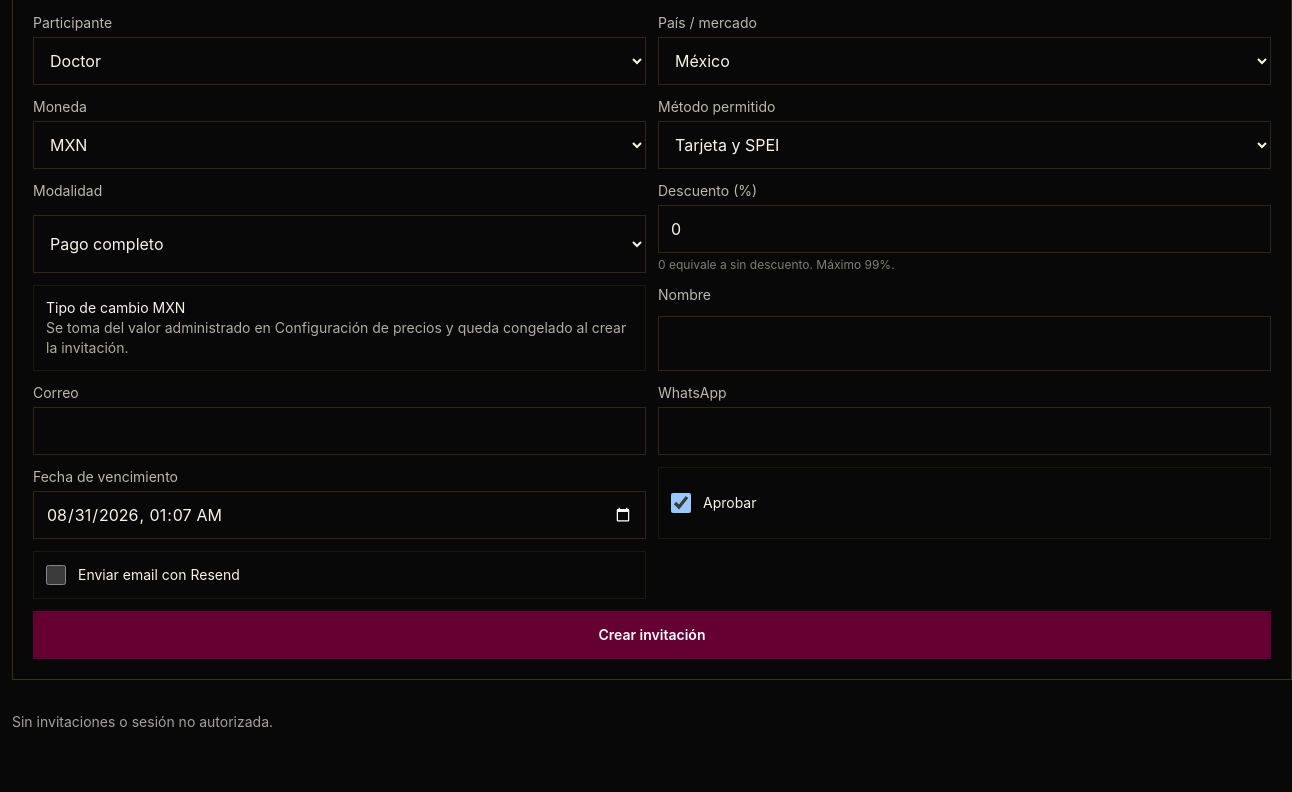
admin components › permite copiar link creado
Step 1. Type "Dra Test" into the field labelled "Nombre" → point(964, 344), box x1=658 y1=316 x2=1271 y2=371
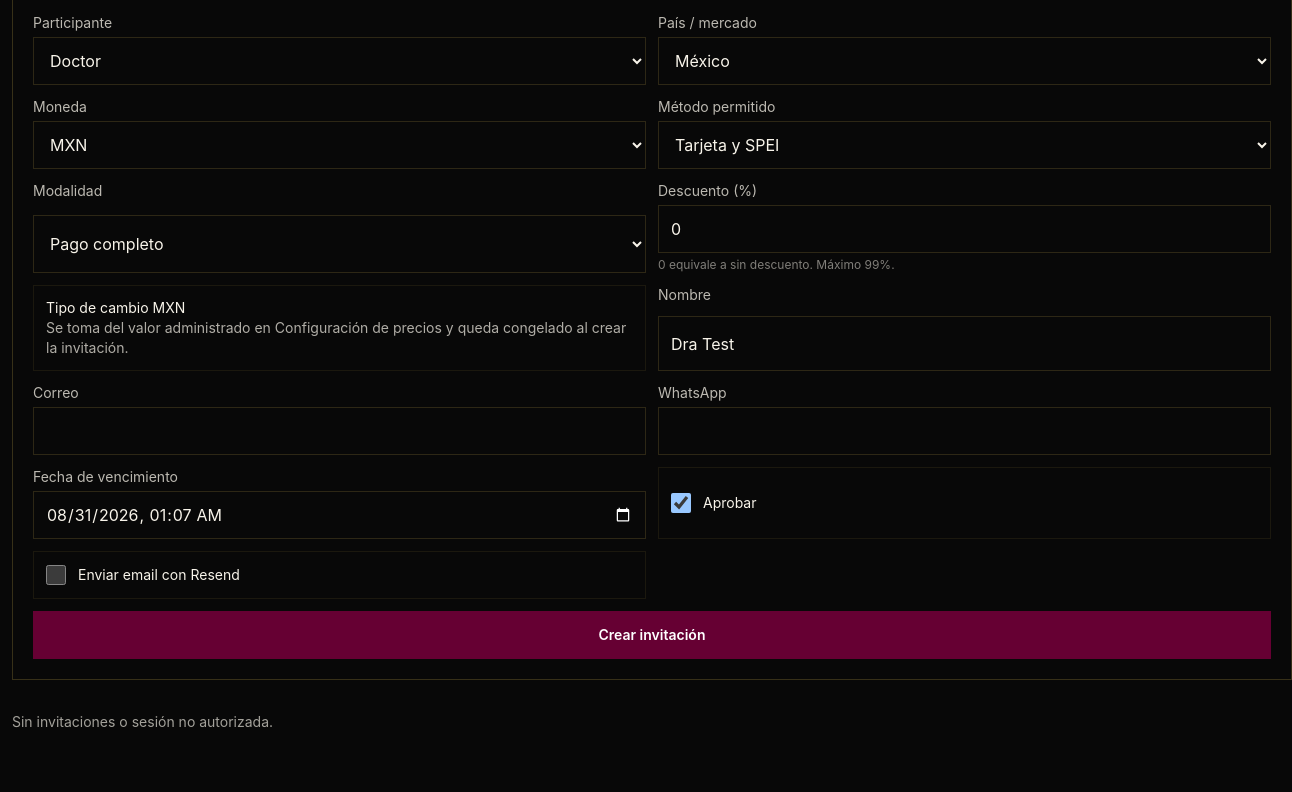
Step 2. Type "yoanna@example.com" into the field labelled "Correo" → point(340, 431), box x1=33 y1=407 x2=646 y2=455
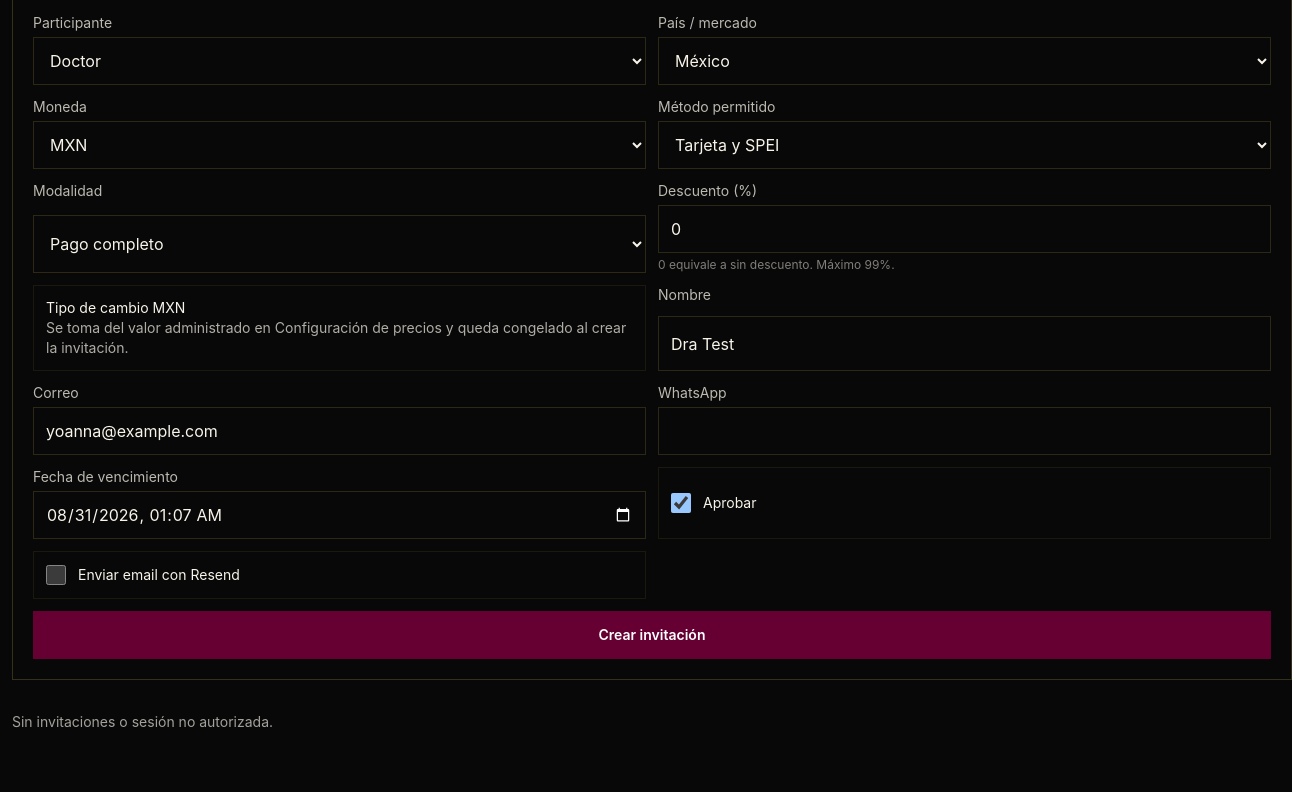
Step 3. Click the button "Crear invitación" → point(652, 635), box x1=33 y1=611 x2=1271 y2=659
(page scrolled)
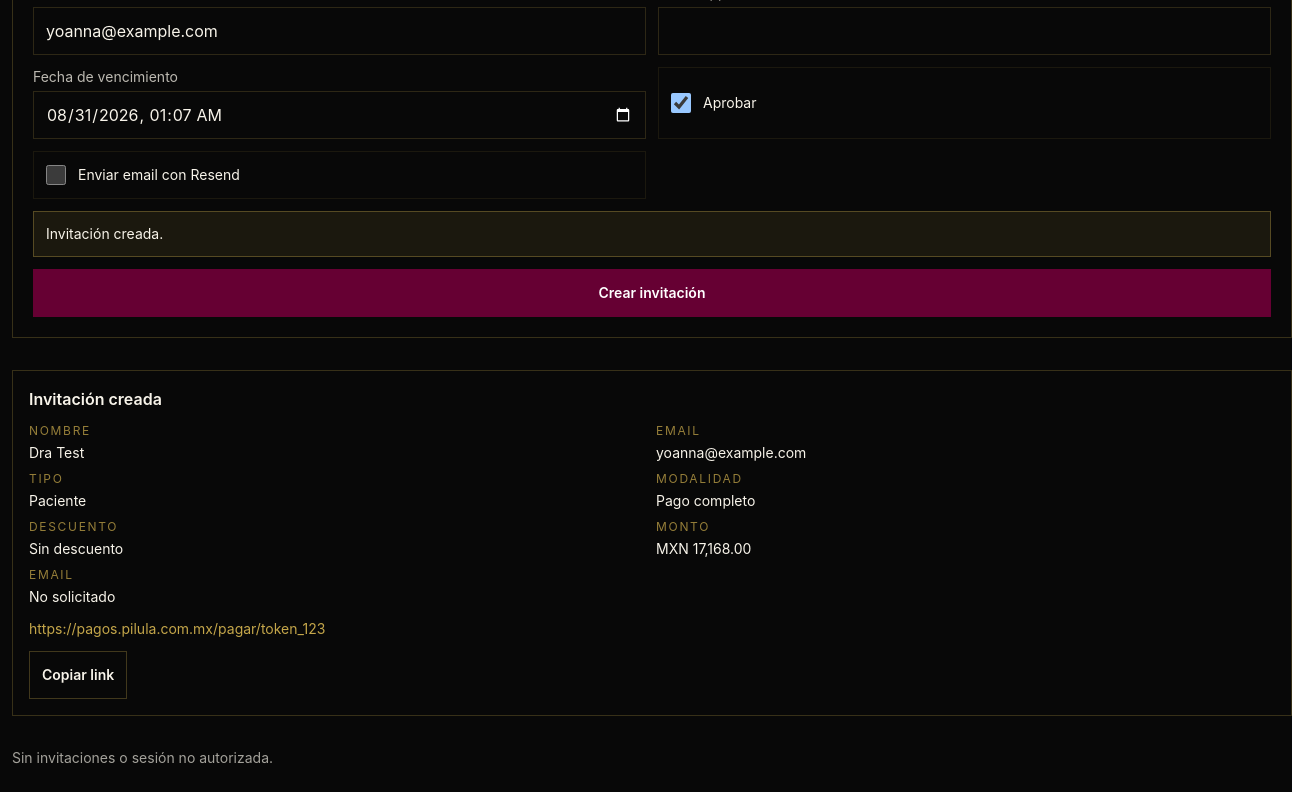
Step 4. Click the button "Copiar link" → point(78, 675), box x1=29 y1=651 x2=127 y2=699
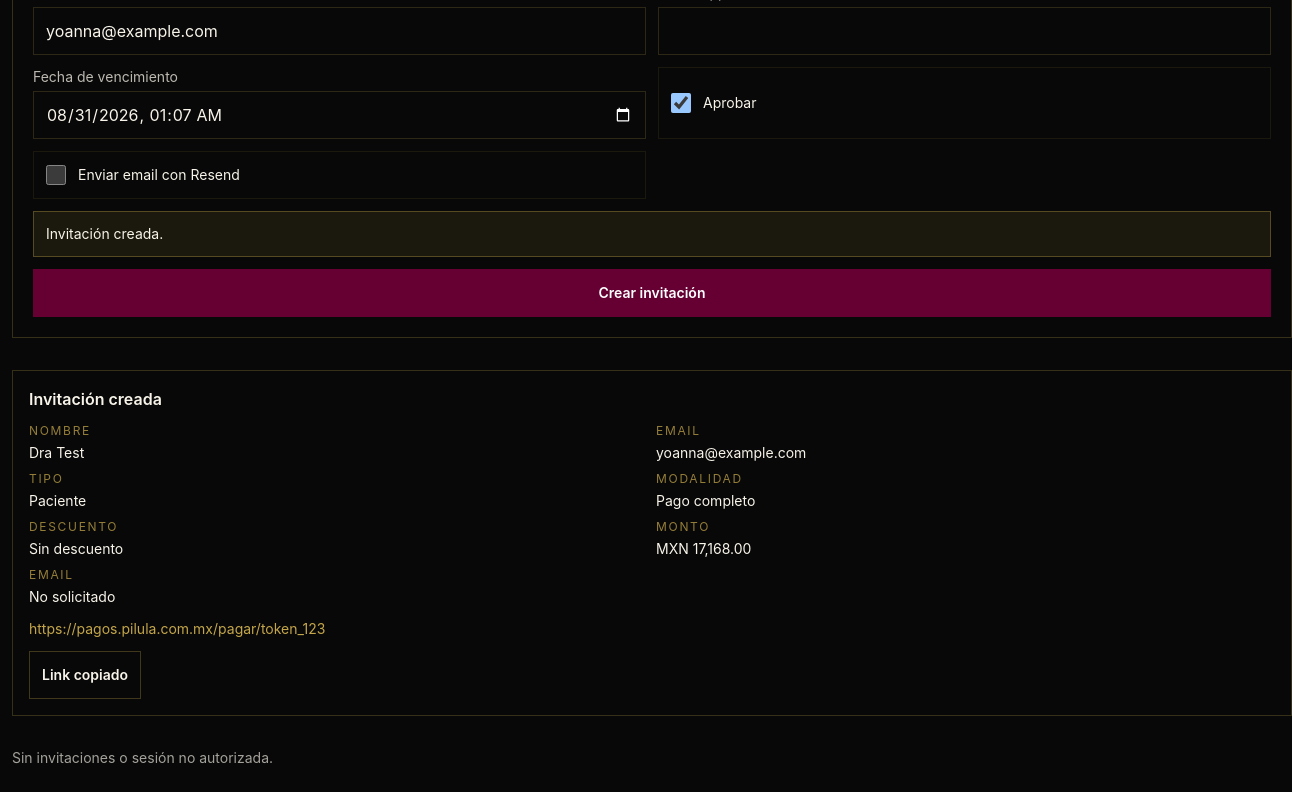
Check: the button "Link copiado" is shown, box x1=29 y1=651 x2=141 y2=699
